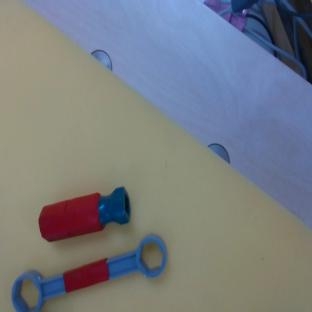part_2_good: (35, 186, 134, 244)
part_3_good: (5, 232, 173, 312)
